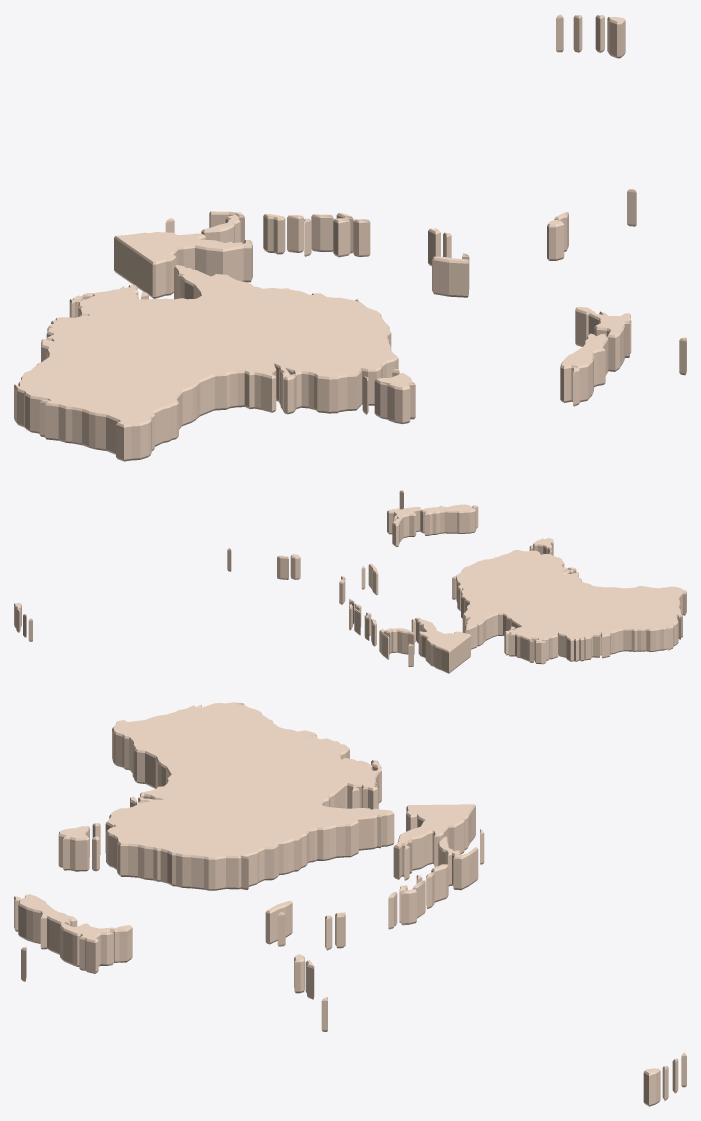
File: oceania.glb
3 views of the same model, one above another, from view 1: azimuth 30°, elevation 25°; view 2: azimuth 150°, elevation 25°; view 3: azimuth 270°, elevation 25° (orthographic). The views are drawn at different scales.
Bounding box in the file's own units: 1.62 × 0.068 × 1.24.
